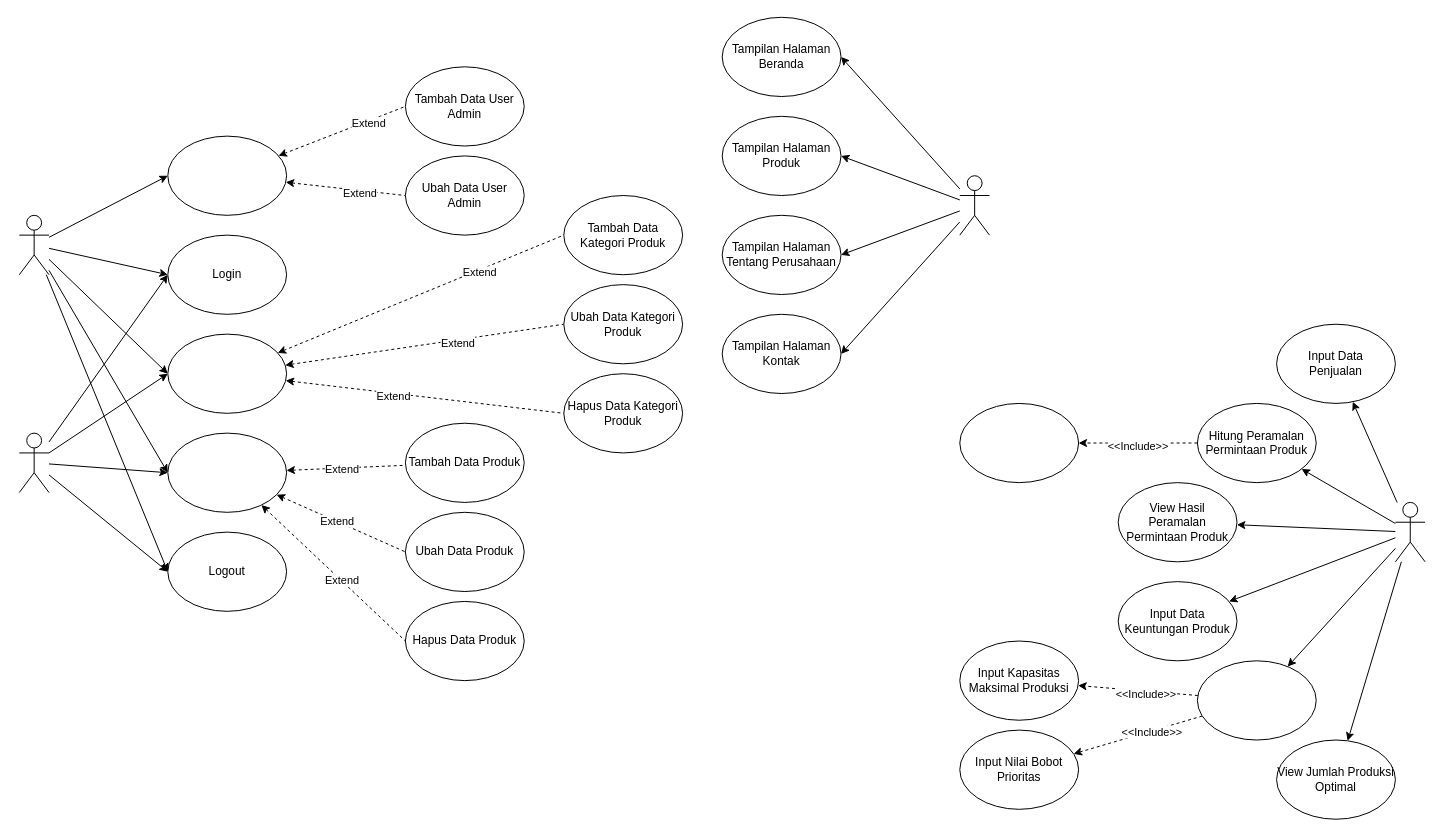
This 1442x837 diagram has some shape labels left out. The shapes that lost their labels are listed below. From the top down, each one's centre as x and y in pixels, then its label:
At point 227,175: "Kelola User Admin".
At point 974,205: "Guest".
At point 33,244: "Super".
At point 227,373: "Kelola Kategori Produk".
At point 33,462: "Admin".
At point 1019,442: "Input Periode Peramalan".
At point 227,472: "Kelola Produk".
At point 1409,531: "Actor".
At point 1256,700: "Hitung Optimasi Produksi".
